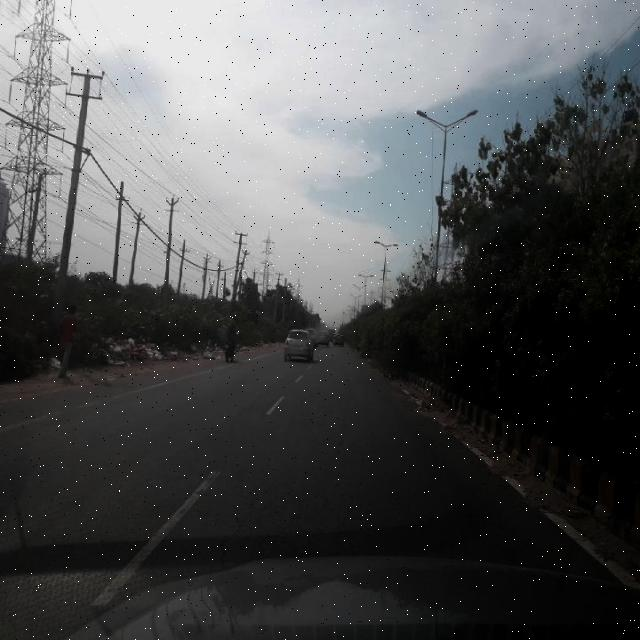D20: (173, 388, 432, 574)
D44: (0, 390, 131, 427)
